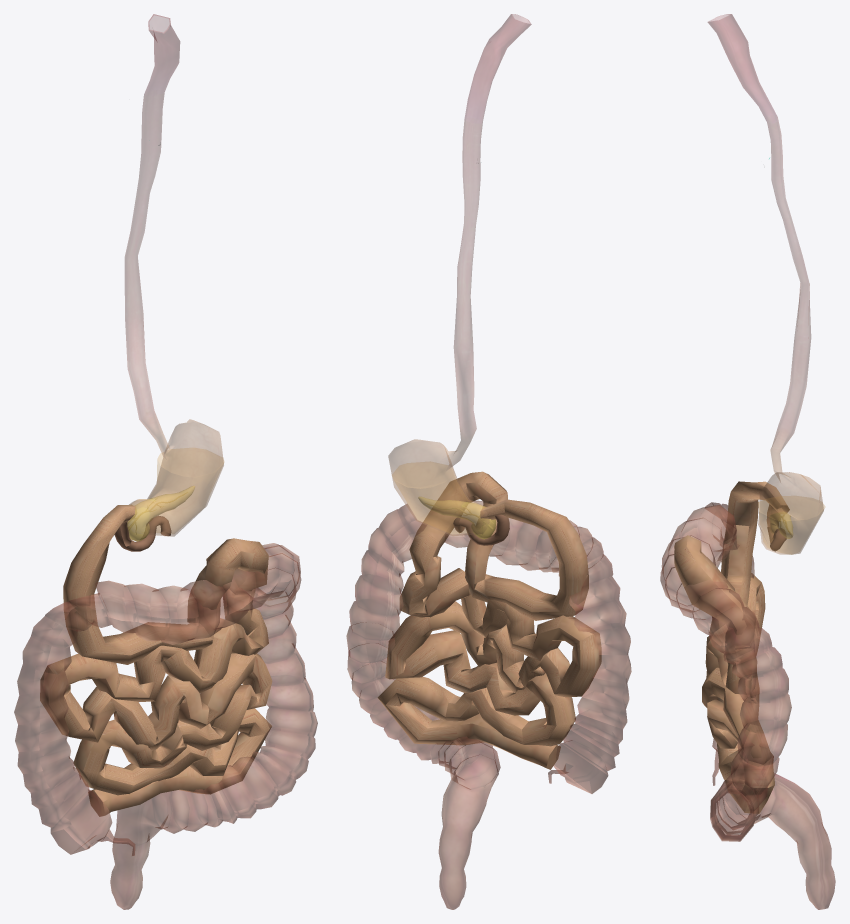
File: stomach.fbx
3 renders of one model, left to right at view 1: azimuth 30°, elevation 25°; view 2: azimuth 150°, elevation 25°; view 3: azimuth 270°, elevation 25°, orthographic. The views are drawn at different scales.
Visible parts, largest first — view 1: pasted__pCylinder1, pasted__polySurface5, polySurface1114, polySurface1115, polySurface1107, polySurface1113; view 2: pasted__pCylinder1, pasted__polySurface5, polySurface1114, polySurface1115, polySurface1107, polySurface1113; view 3: pasted__polySurface5, pasted__pCylinder1, polySurface1114, polySurface1115, polySurface1107, polySurface1113.
Part boxes in pixels (left/top/right/bottom): pasted__pCylinder1: left=40, top=504, right=272, bottom=816; pasted__polySurface5: left=14, top=543, right=317, bottom=909; polySurface1114: left=124, top=14, right=223, bottom=536; polySurface1115: left=131, top=448, right=224, bottom=533; polySurface1107: left=114, top=486, right=194, bottom=551; polySurface1113: left=127, top=486, right=194, bottom=541; pasted__pCylinder1: left=377, top=471, right=601, bottom=769; pasted__polySurface5: left=346, top=500, right=631, bottom=909; polySurface1114: left=388, top=14, right=531, bottom=536; polySurface1115: left=392, top=462, right=475, bottom=533; polySurface1107: left=418, top=497, right=509, bottom=545; polySurface1113: left=419, top=497, right=495, bottom=538; pasted__polySurface5: left=660, top=502, right=835, bottom=909; pasted__pCylinder1: left=674, top=481, right=789, bottom=813; polySurface1114: left=707, top=14, right=823, bottom=554; polySurface1115: left=758, top=496, right=824, bottom=554; polySurface1107: left=767, top=504, right=792, bottom=551; polySurface1113: left=770, top=512, right=792, bottom=538.
Size of the model in its own units: 26.05 by 76.75 by 13.76.
13 materials, 3 textured.
